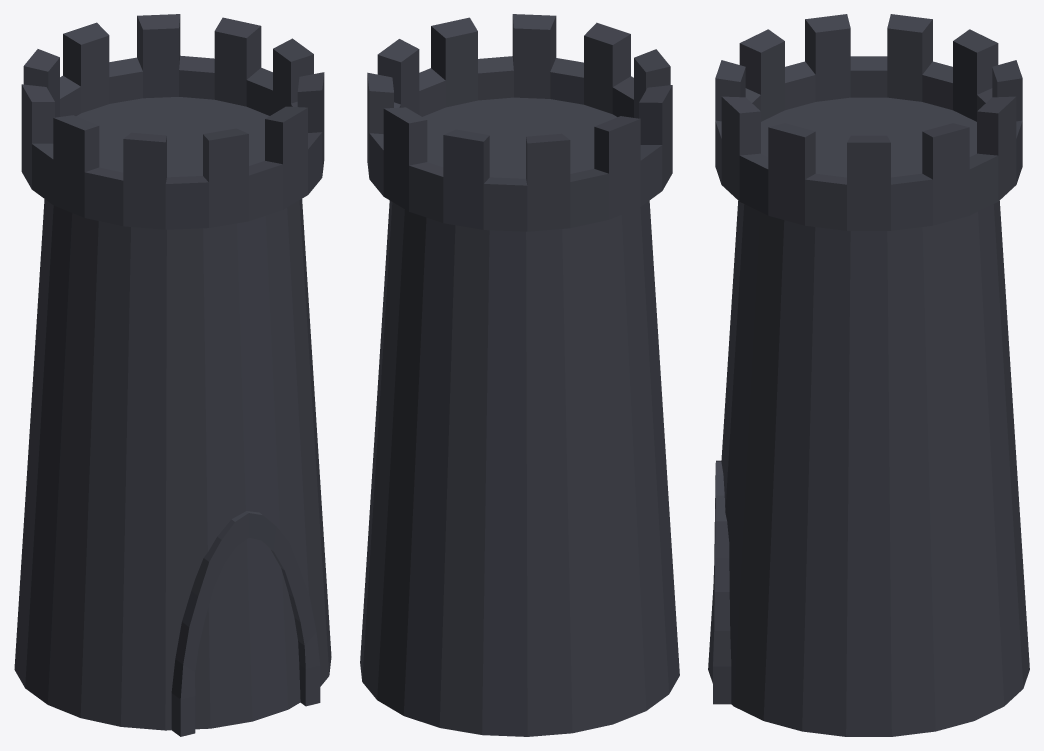
Rendered from Torre.fbx.
3 views of the same model, side by side, from view 1: azimuth 30°, elevation 25°; view 2: azimuth 150°, elevation 25°; view 3: azimuth 270°, elevation 25° (orthographic).
Parts seen in each view (by area): view 1: Cilindro; view 2: Cilindro; view 3: Cilindro.
Part boxes in pixels (box(x1,y1,x2,y2)): Cilindro: box(14, 14, 331, 736); Cilindro: box(360, 14, 679, 736); Cilindro: box(708, 14, 1029, 736).
Size of the model in its own units: 381 by 780 by 385.
1 material, 1 textured.
